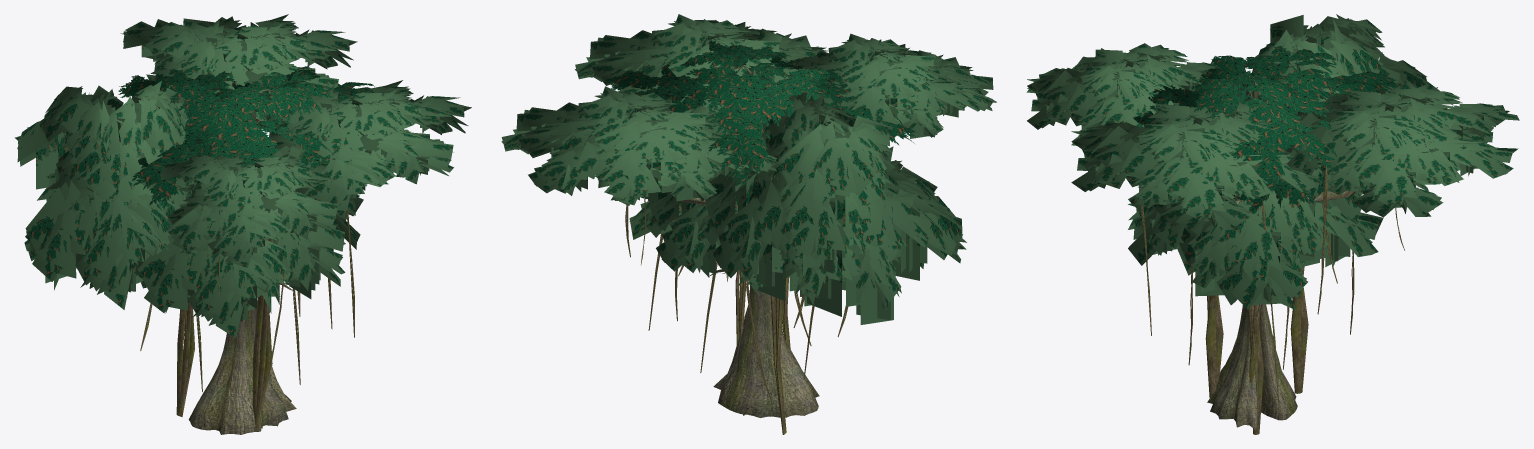
Rendered from tree.glb.
3 renders of one model, left to right at view 1: azimuth 30°, elevation 25°; view 2: azimuth 150°, elevation 25°; view 3: azimuth 270°, elevation 25°, orthographic. The views are drawn at different scales.
Bounding box in the file's own units: 27.61 × 22.82 × 28.31.
Materials: 5 (5 with a texture image).
